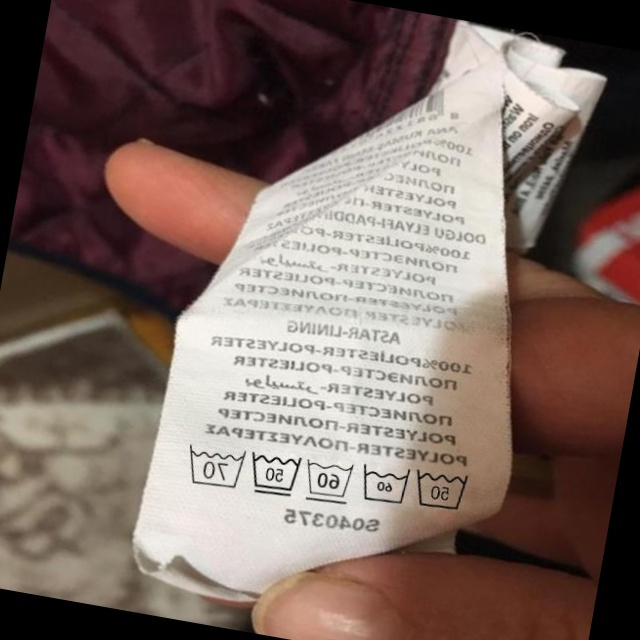50C: (407, 459, 476, 519), (242, 445, 305, 503)
60C: (297, 451, 357, 508), (353, 457, 414, 512)
70C: (177, 438, 247, 494)
